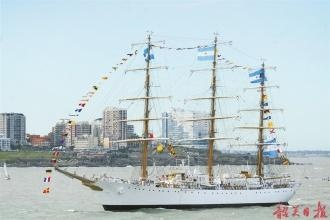fanchuan: (42, 28, 301, 215), (2, 160, 14, 181)
